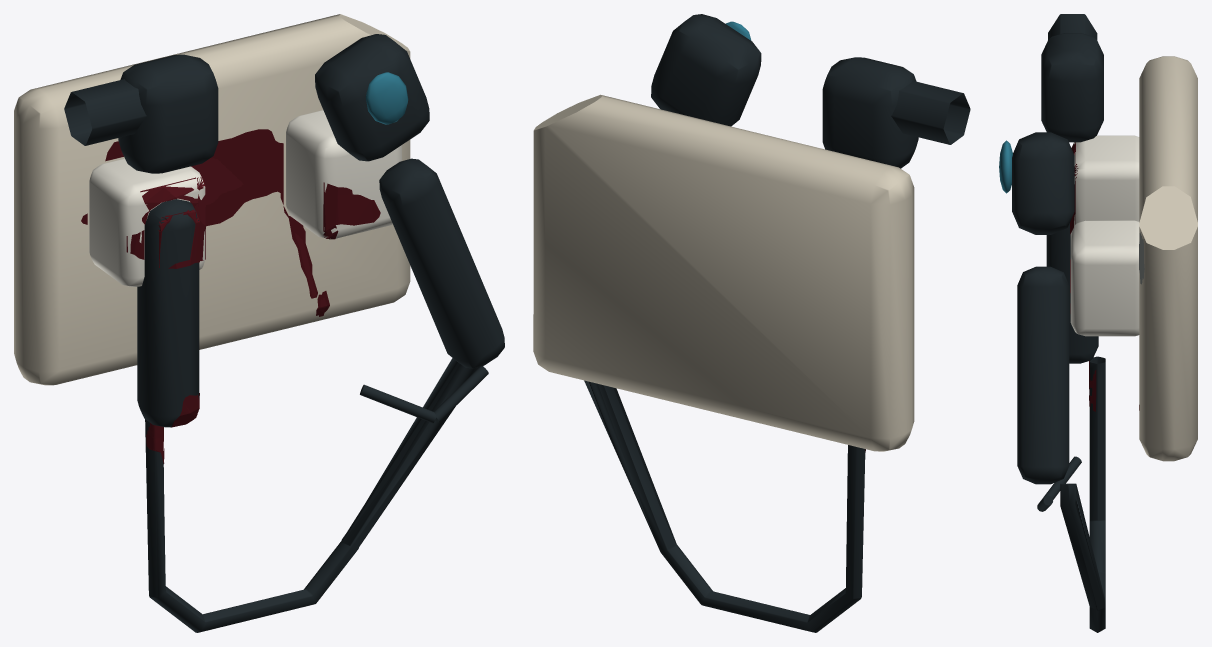
Rendered from wall_exam_set.glb.
3 renders of one model, left to right at view 1: azimuth 30°, elevation 25°; view 2: azimuth 150°, elevation 25°; view 3: azimuth 270°, elevation 25°, orthographic. The views are drawn at different scales.
Visible parts, largest first — view 1: Outbreak_WallExamSet_Static; view 2: Outbreak_WallExamSet_Static; view 3: Outbreak_WallExamSet_Static.
Part boxes in pixels (left/top/right/bottom): Outbreak_WallExamSet_Static: left=14, top=14, right=504, bottom=632; Outbreak_WallExamSet_Static: left=533, top=14, right=970, bottom=632; Outbreak_WallExamSet_Static: left=999, top=14, right=1197, bottom=632.
Size of the model in its own units: 0.4977 by 0.6897 by 0.238.
